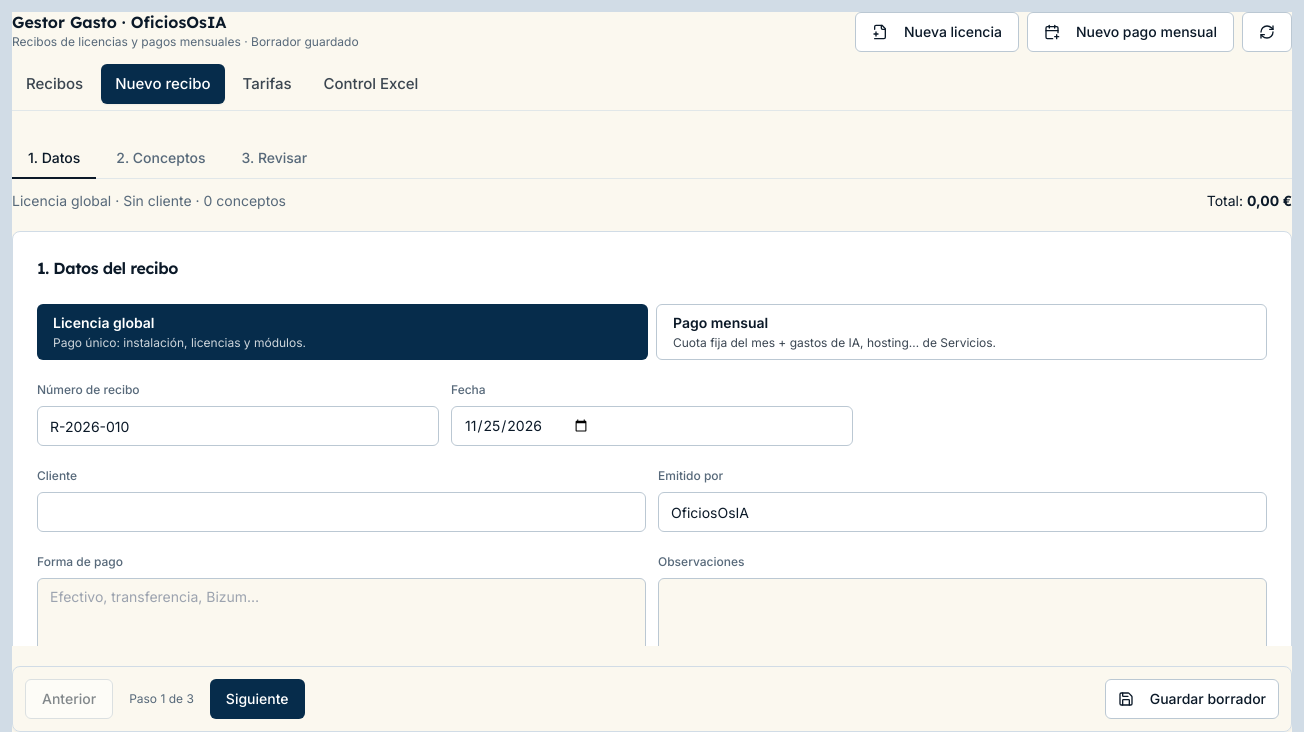
editor de recibos › reordena conceptos, conserva precios y respeta el orden en el recibo
Click the button "2. Conceptos" at point(161, 159), box [100,139,222,179]
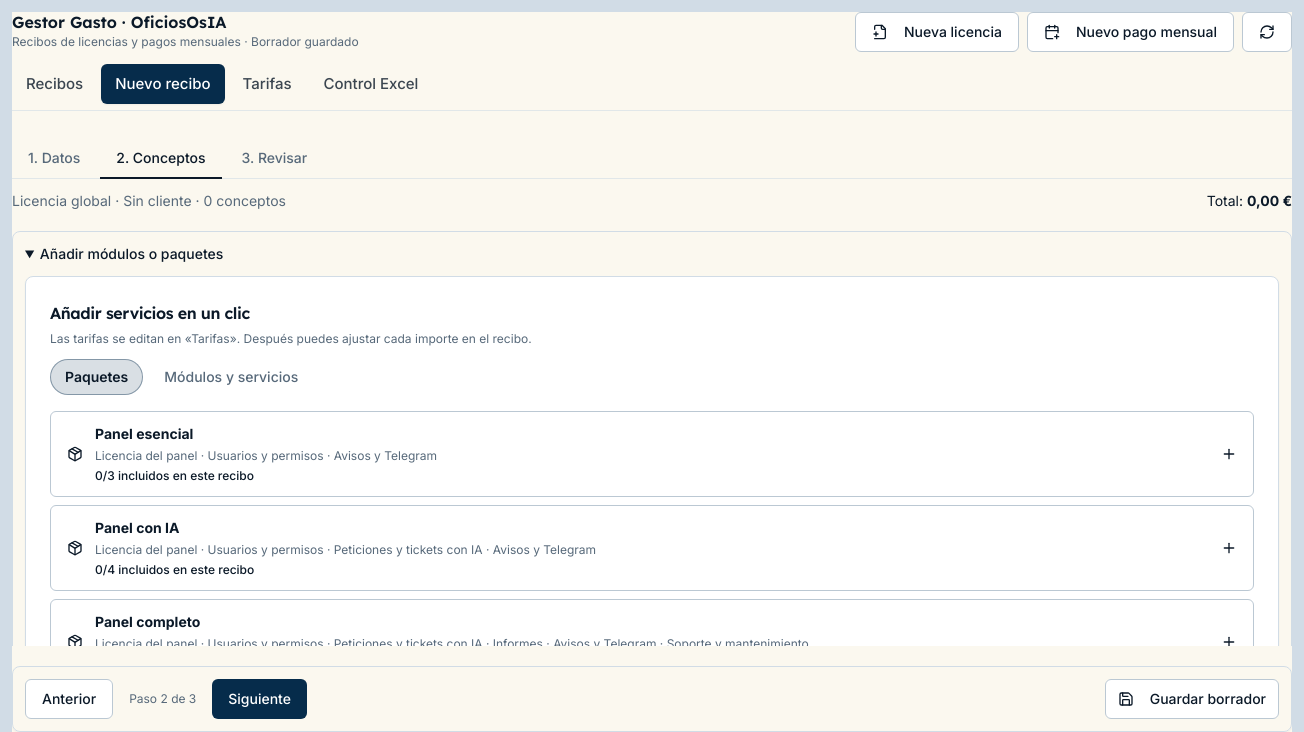
Click the button "Panel esencial" at point(144, 434), box [50,411,1254,497]
(page scrolled)
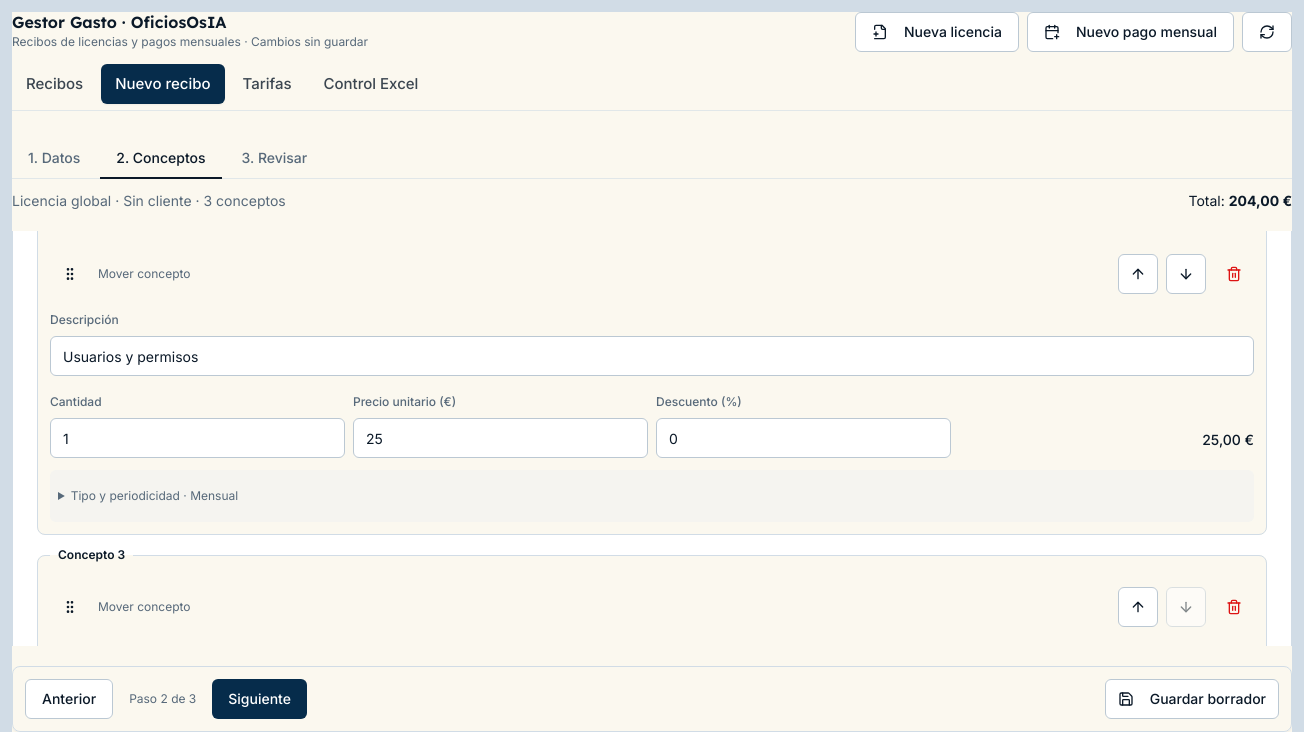
Replace the text in the number field labelled "Precio unitario (€)" with "77" at point(500, 438), box [353,418,648,458]
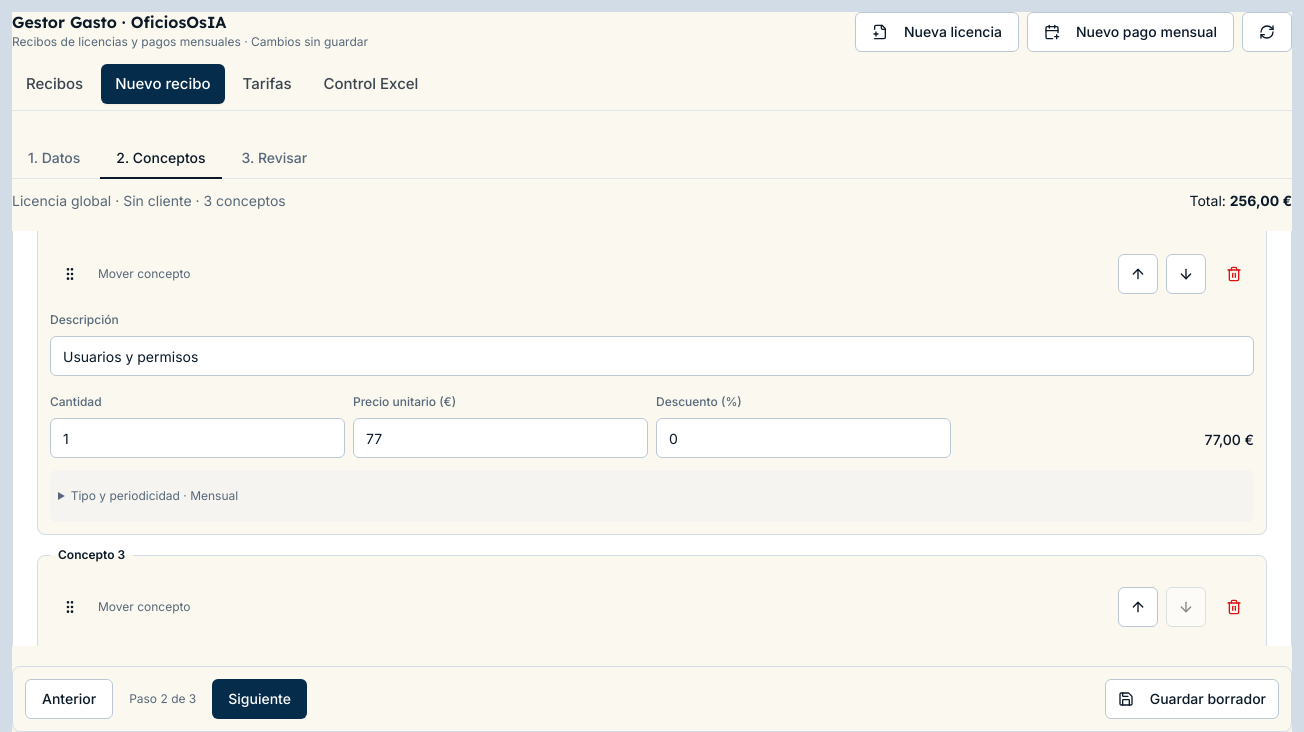
Click the button named "Subir concepto 2" at point(1138, 274), box [1118,254,1158,294]
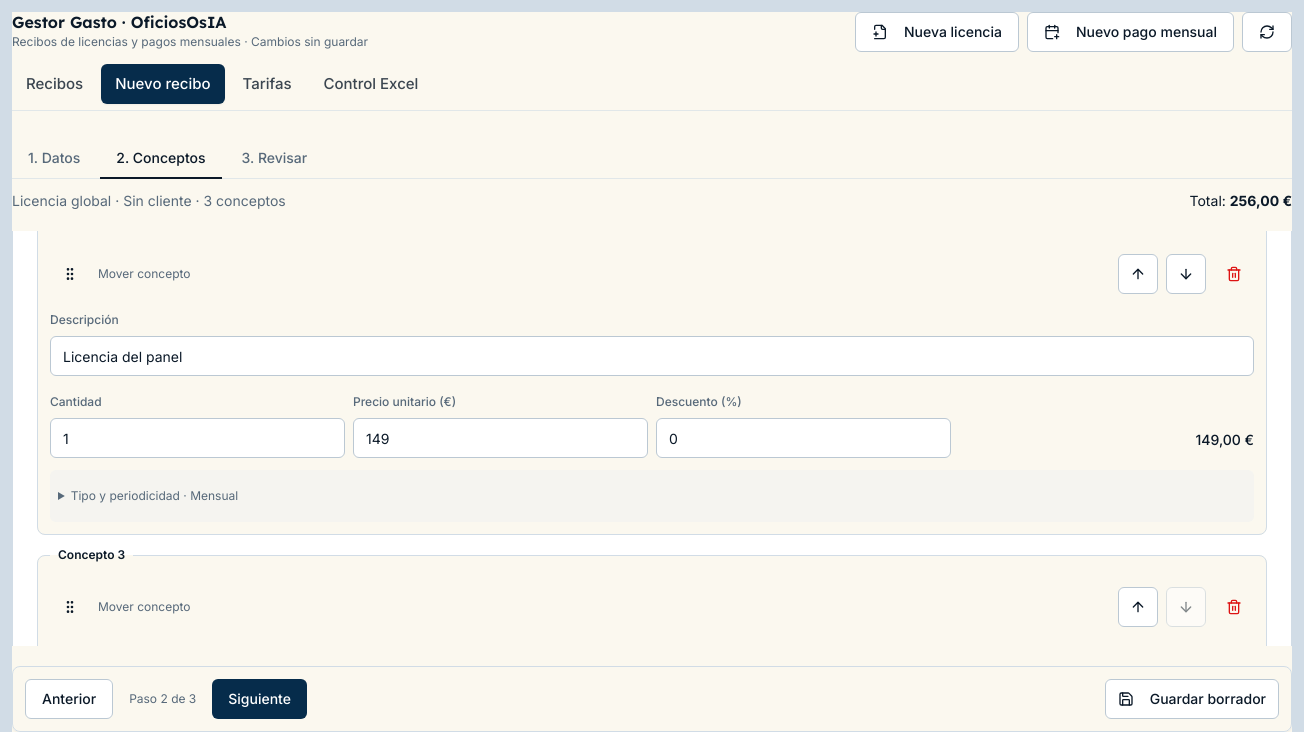
Click the button "3. Revisar" at point(274, 159), box [226,139,323,179]
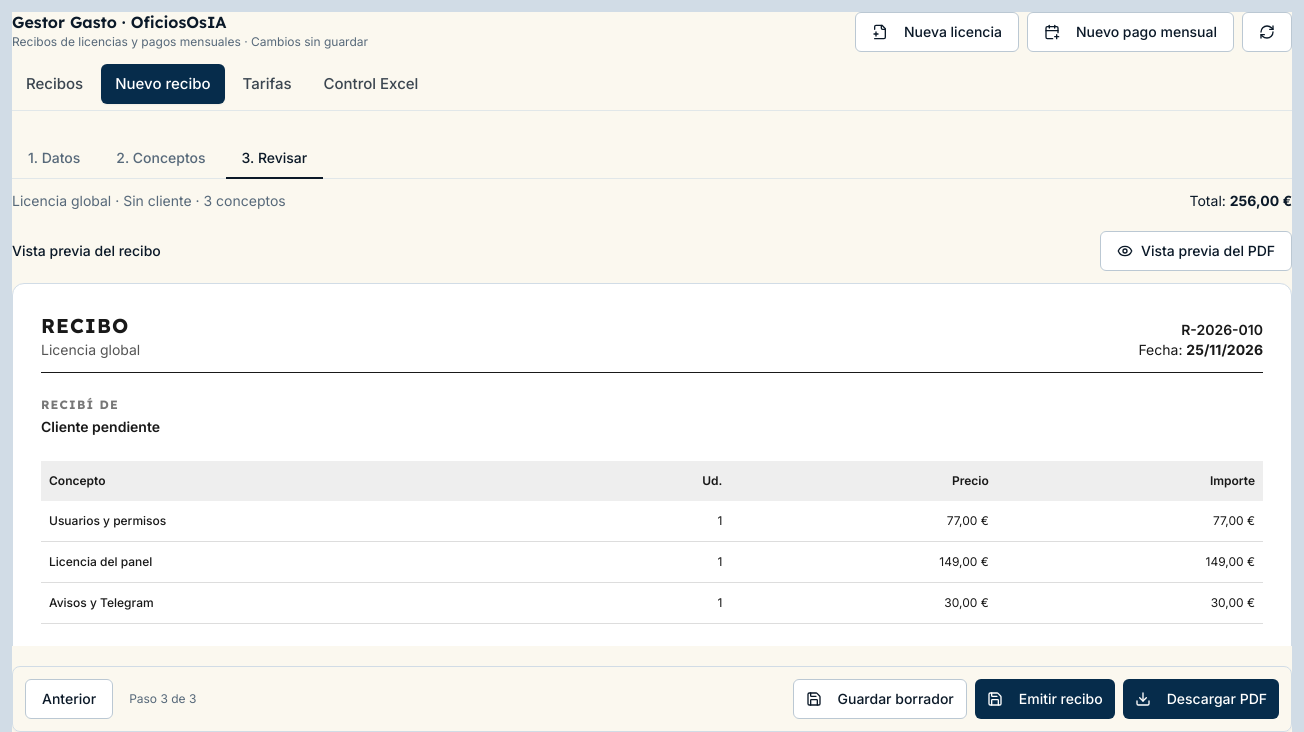
expect the row "Usuarios y permisos 1 77,00 € 77,00 €" is shown: met, box [41,501,1263,542]
expect the row "Licencia del panel 1 149,00 € 149,00 €" is shown: met, box [41,542,1263,582]
